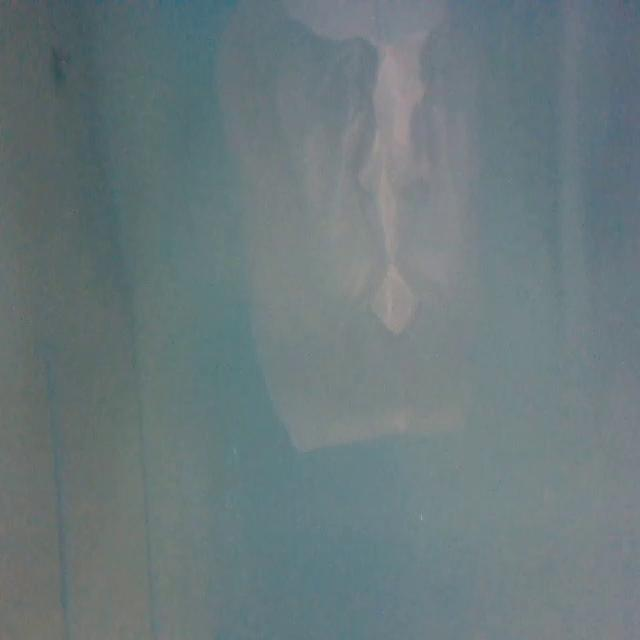plastic bags: (215, 12, 504, 447)
